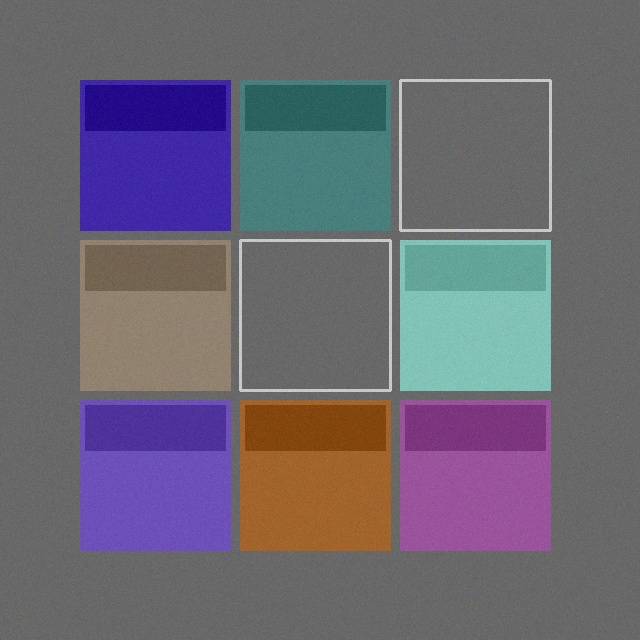space-empty: (400, 80, 550, 230), (240, 240, 390, 390)
space-occupied: (80, 80, 230, 230), (240, 80, 390, 230), (80, 240, 230, 390), (400, 240, 550, 390), (80, 400, 230, 550), (240, 400, 390, 550), (400, 400, 550, 550)
